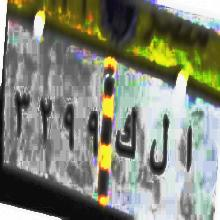2: (39, 99, 54, 144)
3: (15, 86, 30, 146)
9: (62, 102, 77, 158), (88, 106, 99, 162)
alif: (177, 118, 195, 182)
kaaf: (114, 99, 137, 169)
laam: (148, 108, 169, 180)
